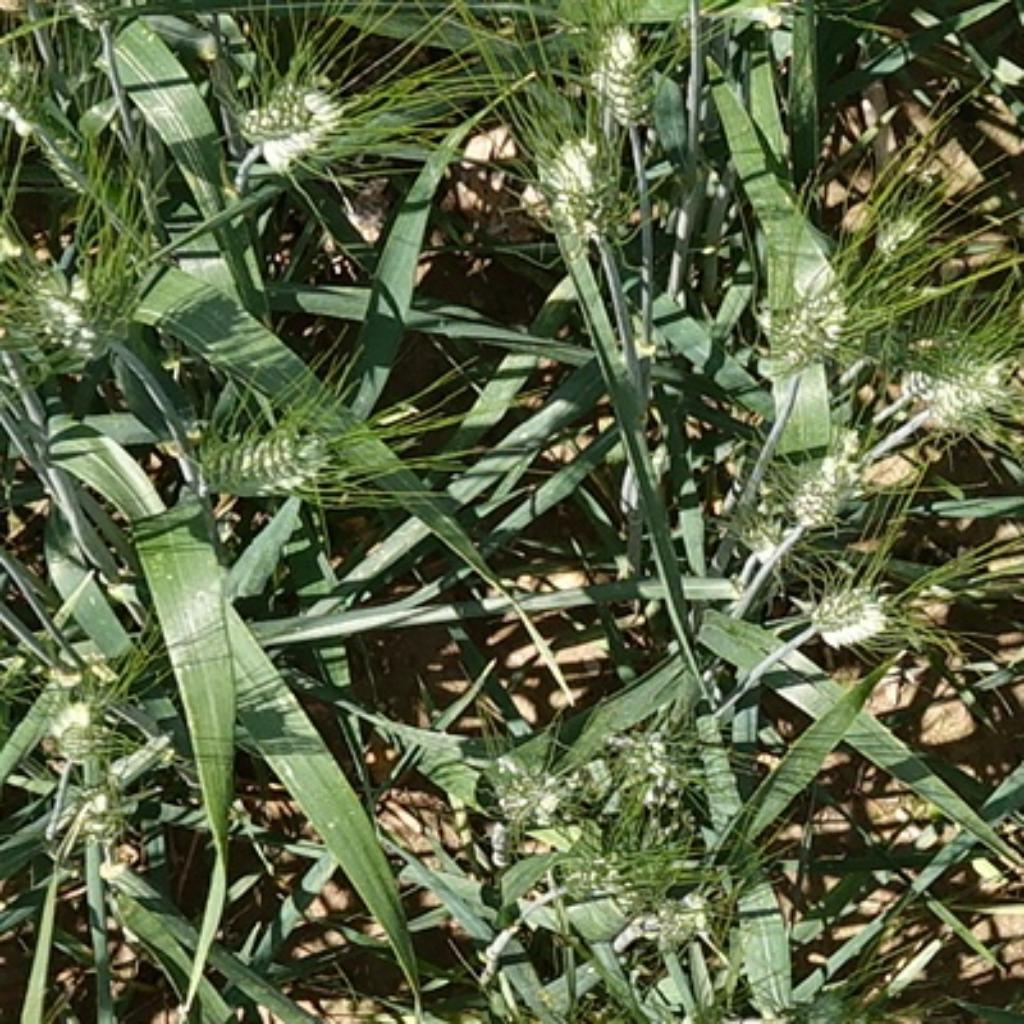0-0: (2, 66, 102, 217), (542, 803, 691, 903), (179, 404, 335, 499), (524, 117, 637, 248), (747, 243, 857, 373), (883, 325, 1024, 412), (235, 76, 357, 175), (28, 652, 133, 762), (916, 348, 1024, 445), (38, 272, 140, 373), (593, 706, 698, 801), (727, 483, 824, 583), (573, 15, 660, 122), (773, 430, 872, 524), (476, 734, 573, 826), (860, 176, 944, 263), (798, 568, 896, 642), (624, 875, 716, 947), (69, 755, 127, 834), (802, 981, 869, 1023), (494, 1021, 586, 1024)
